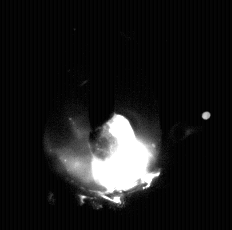arame: (90, 0, 115, 144)
poca: (44, 0, 160, 230)
